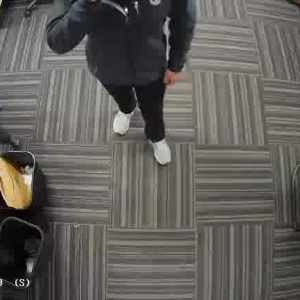person: (77, 0, 177, 156)
